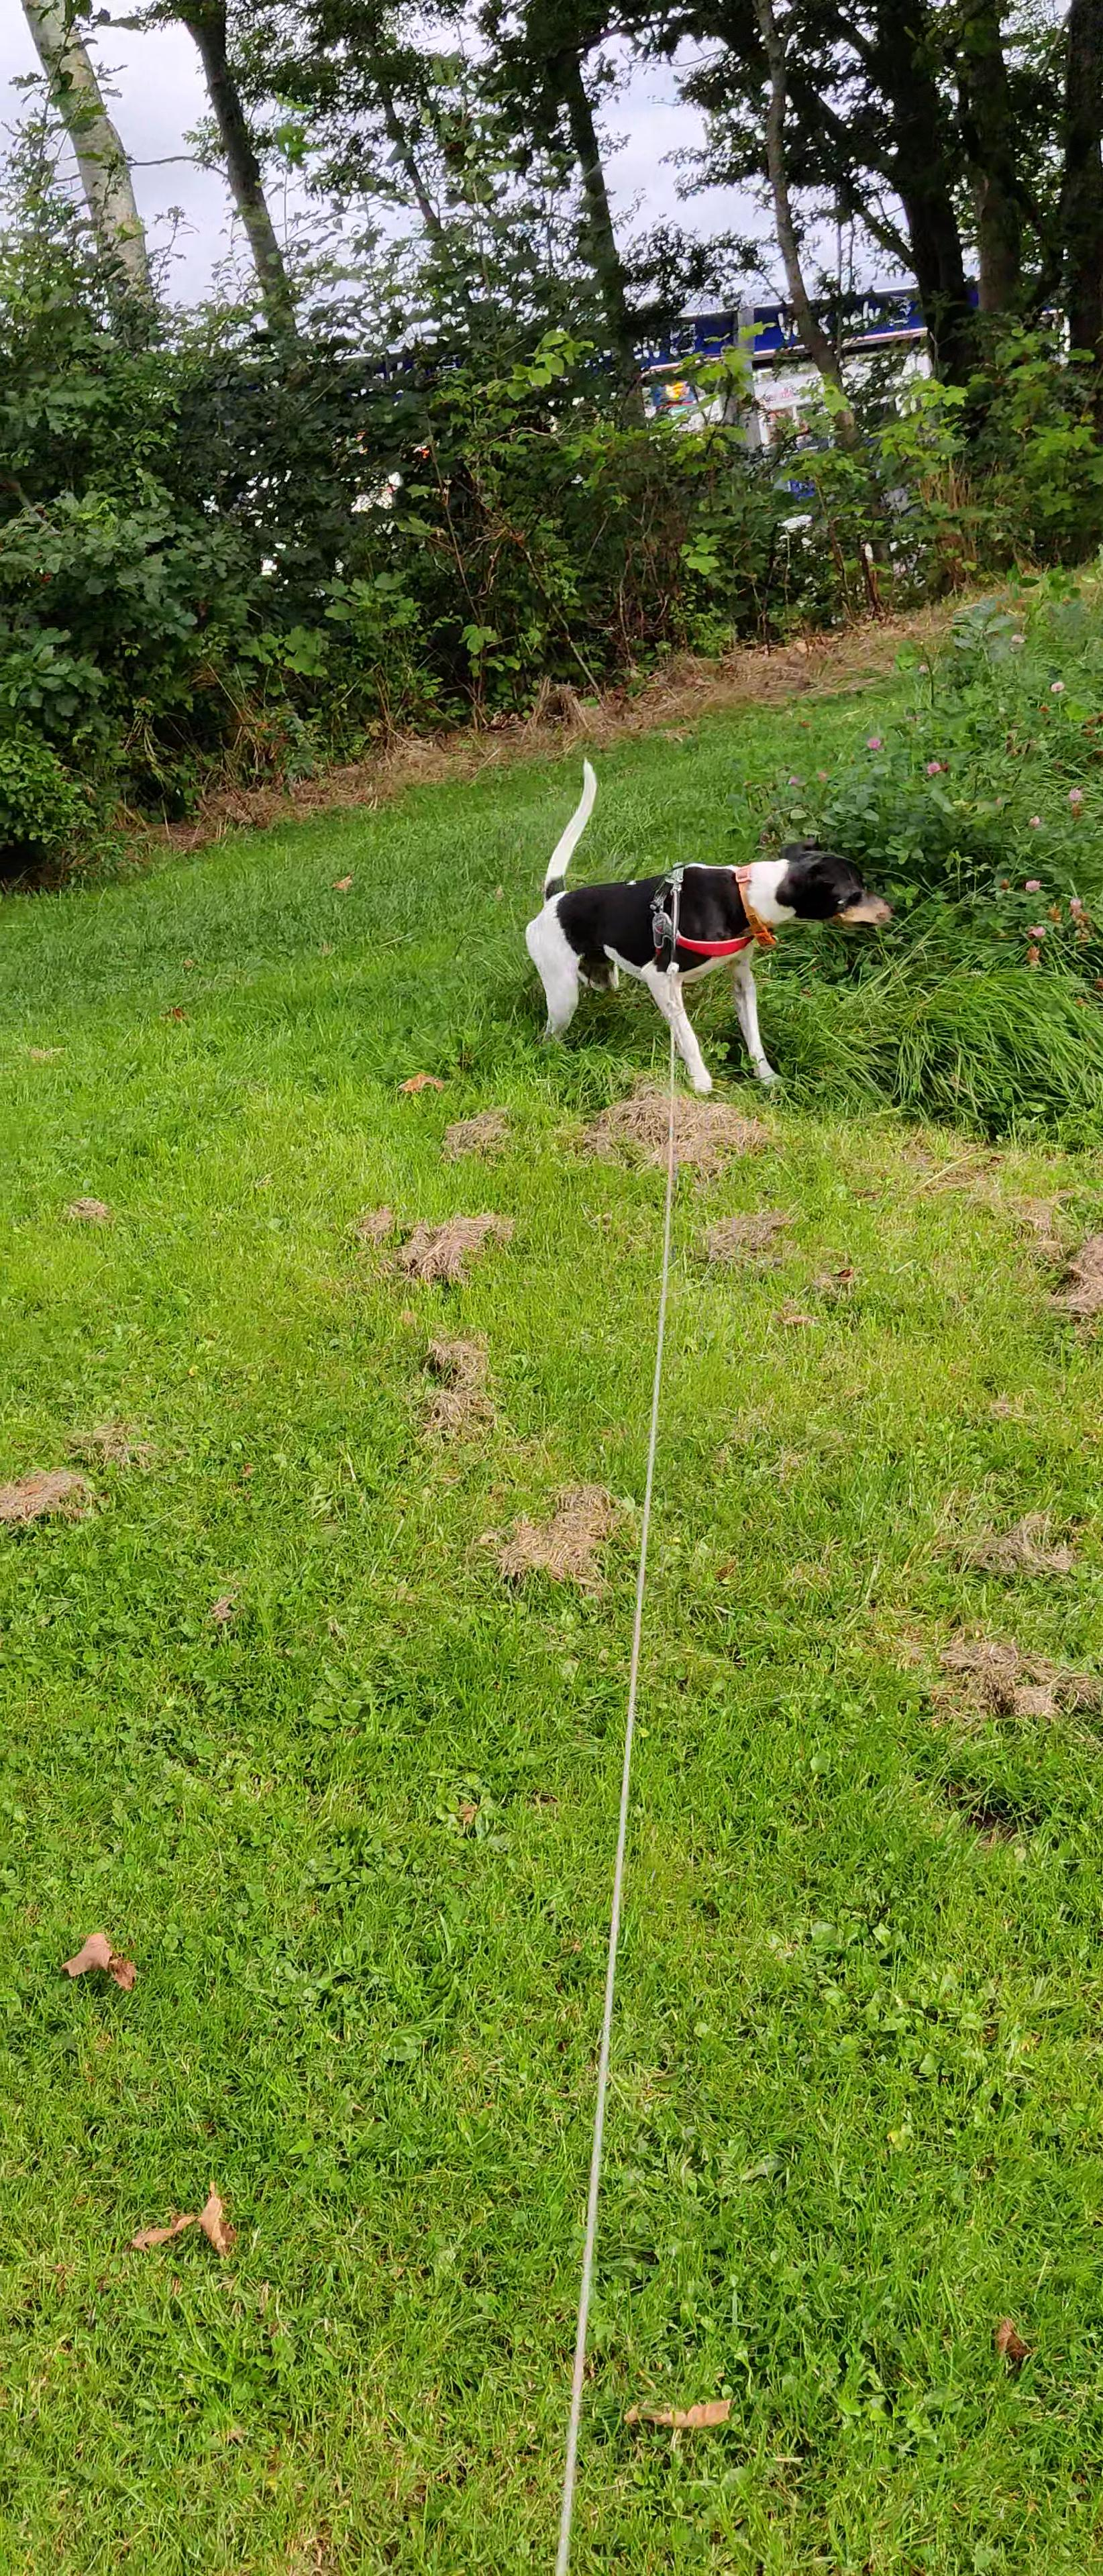Dog: (516, 754, 899, 1109)
